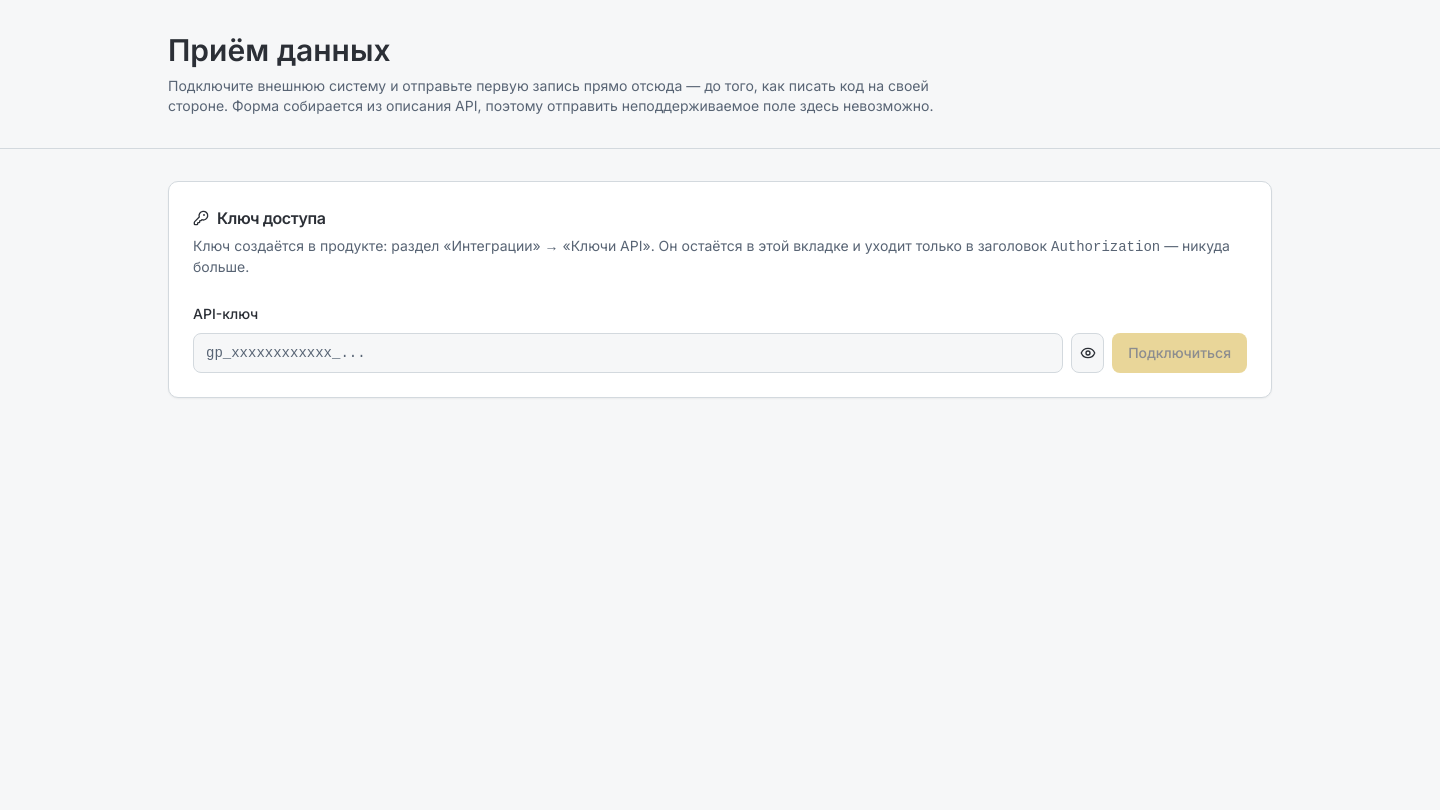
консоль приёма данных › требует идентификатор внешней системы
Type "gp_test_secret" into the password field labelled "API-ключ".
click(628, 353); type("gp_test_secret")  # box [193, 333, 1063, 373]
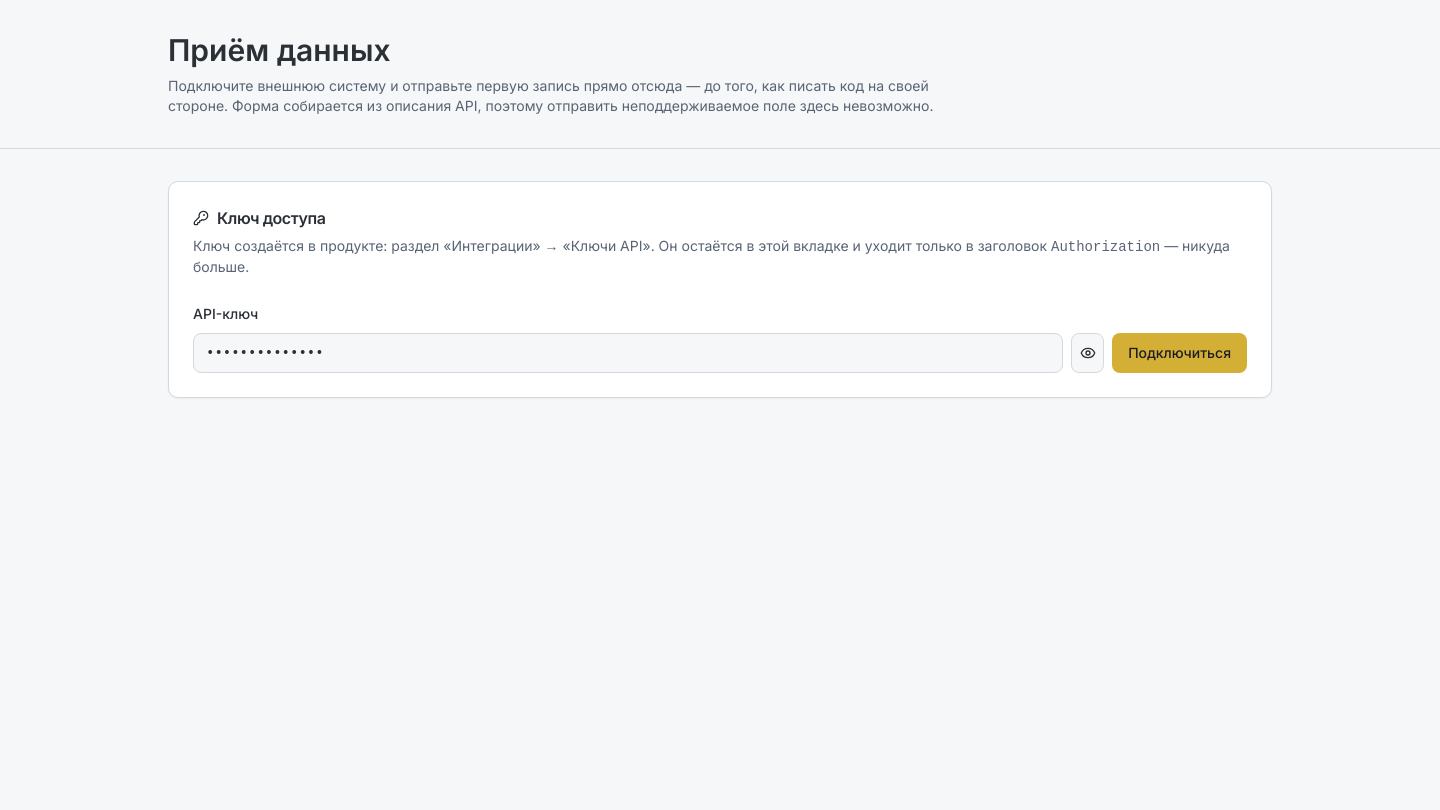
Click the button "Подключиться".
click(1180, 353)  # box [1112, 333, 1247, 373]
(page scrolled)
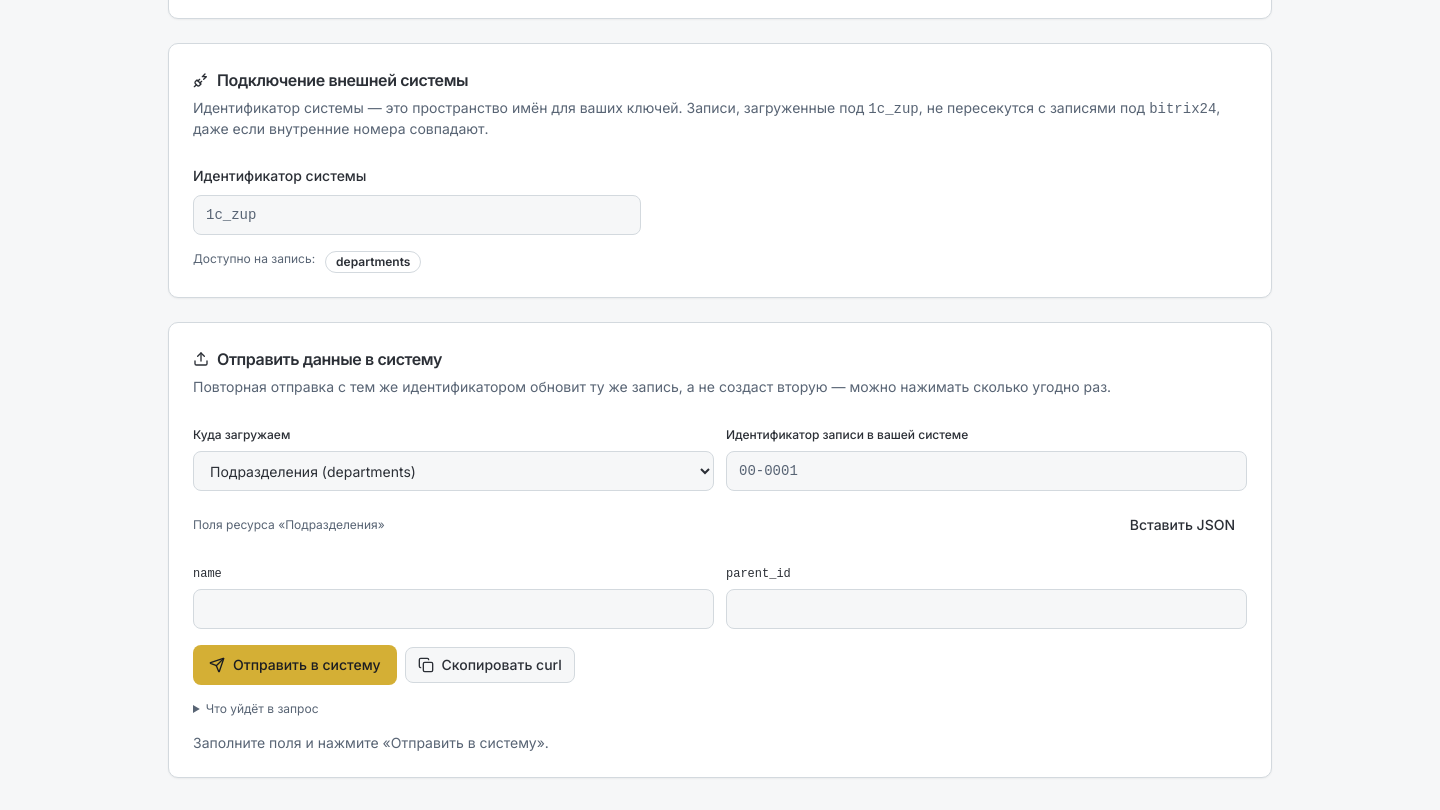
Expected: the field labelled "name" is shown
Type "Склад" into the field labelled "name".
click(454, 609); type("Склад")  # box [193, 589, 714, 629]
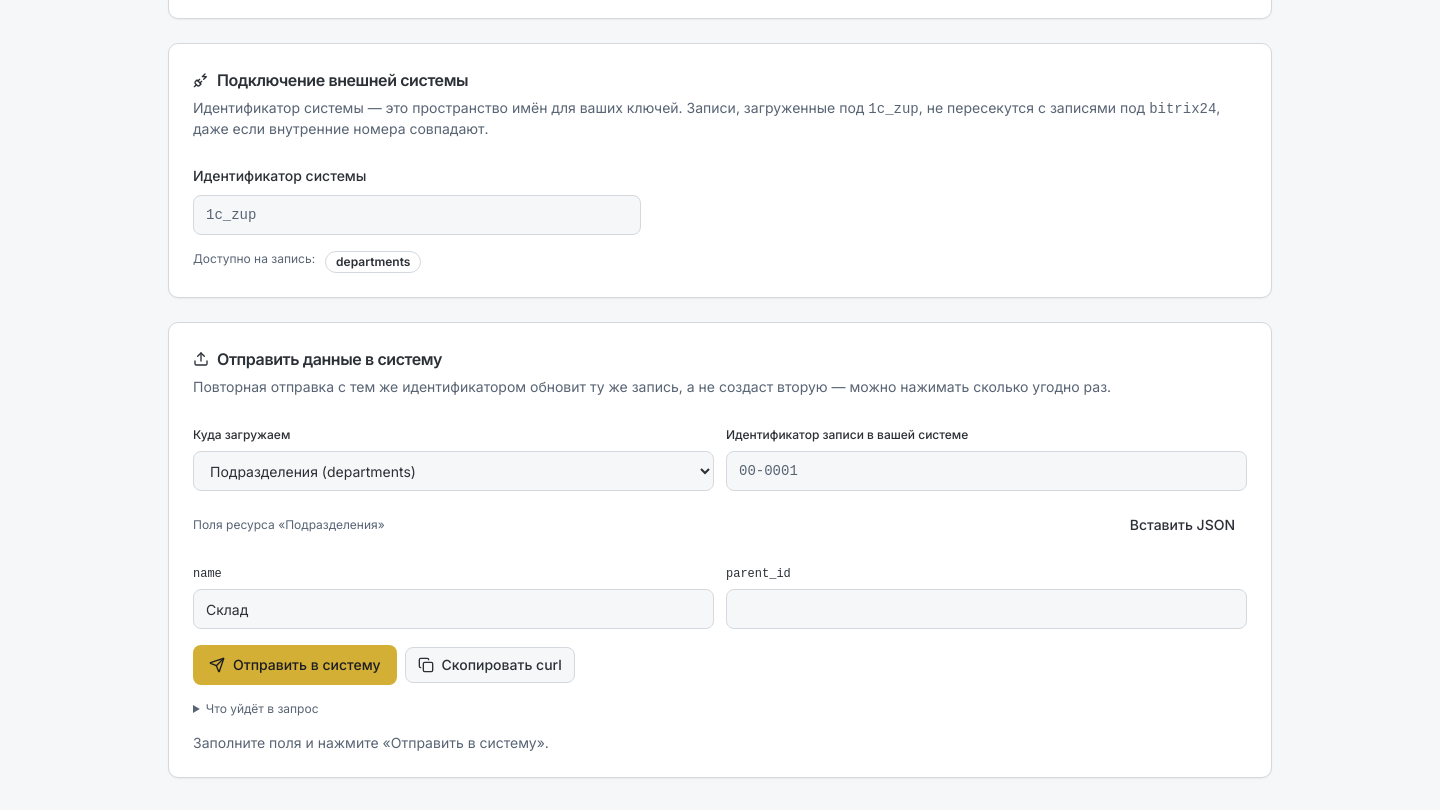
Click the button "Отправить в систему".
click(295, 665)  # box [193, 645, 396, 685]
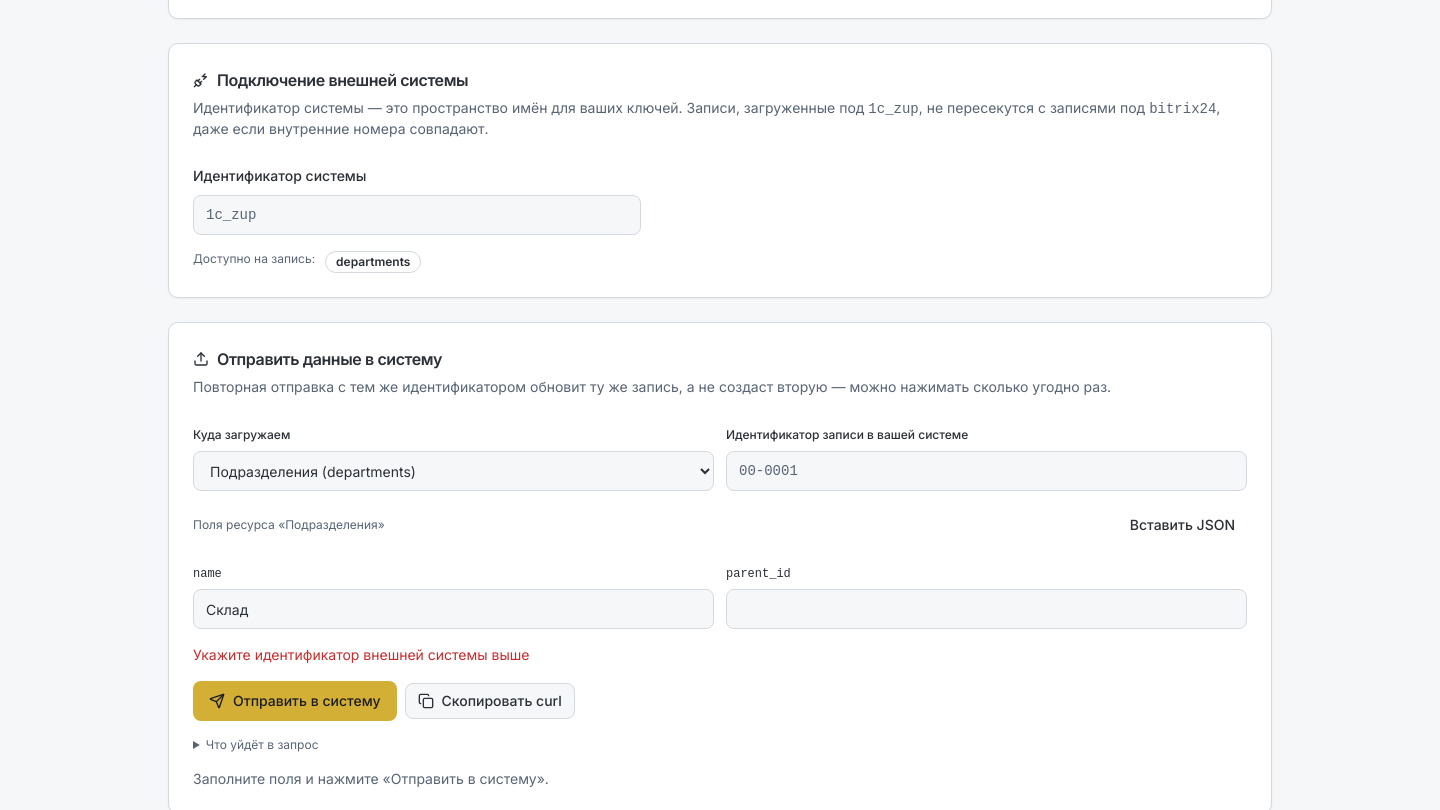
Expected: the text "Укажите идентификатор внешней системы выше" is shown, [193, 646, 529, 663]
